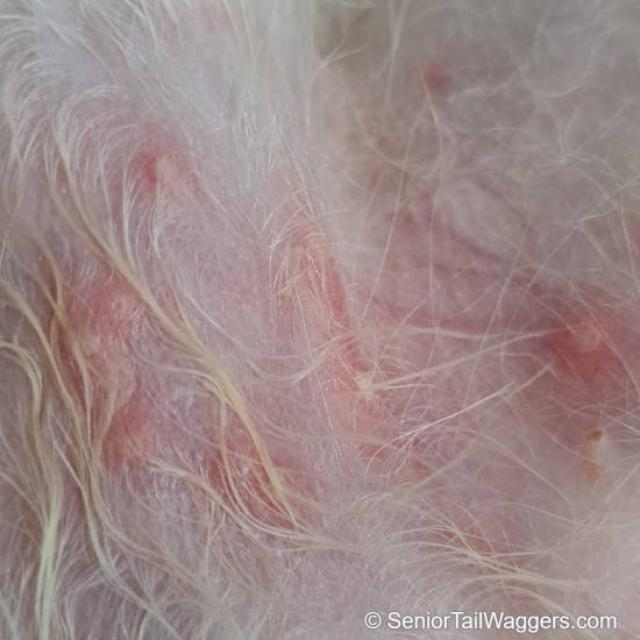fungal infection: (9, 9, 639, 596)
